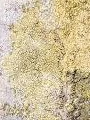Corrosion: (1, 1, 90, 120)
